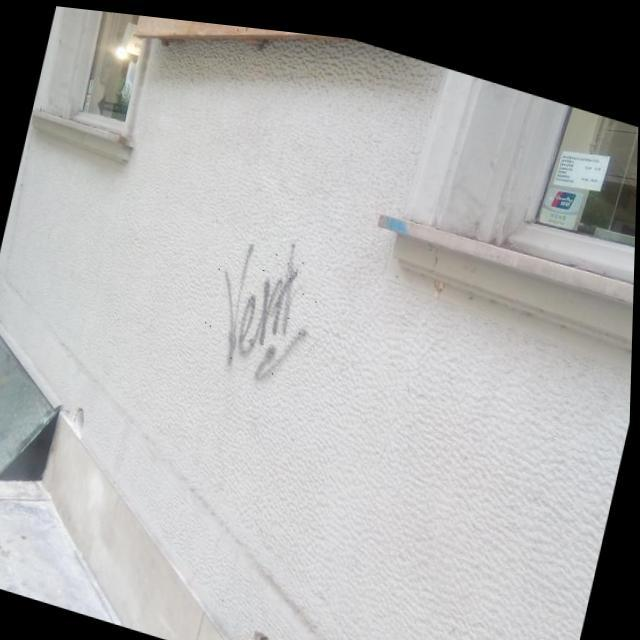-: (198, 214, 334, 385)
